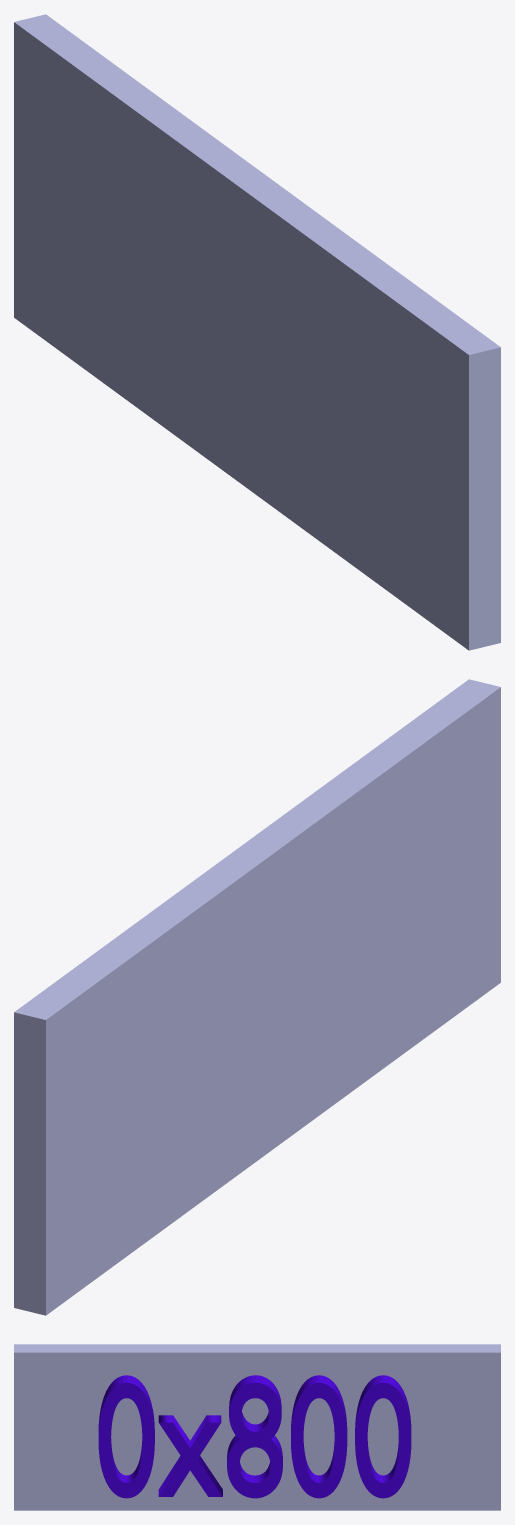
The picture shows the model from 3 angles, top to bottom: view 1: azimuth 30°, elevation 25°; view 2: azimuth 150°, elevation 25°; view 3: azimuth 270°, elevation 25°; orthographic projection. The views are drawn at different scales.
Visible parts, largest first — view 1: Cube; view 2: Cube; view 3: Cube, Text.
Boxes of the visible parts, x1,y1,x2,y2 form: Cube: (14, 14, 500, 650); Cube: (14, 679, 500, 1315); Cube: (14, 1344, 500, 1510); Text: (98, 1375, 411, 1498).
Size of the model in its own units: 2.65 by 12.33 by 34.39.
